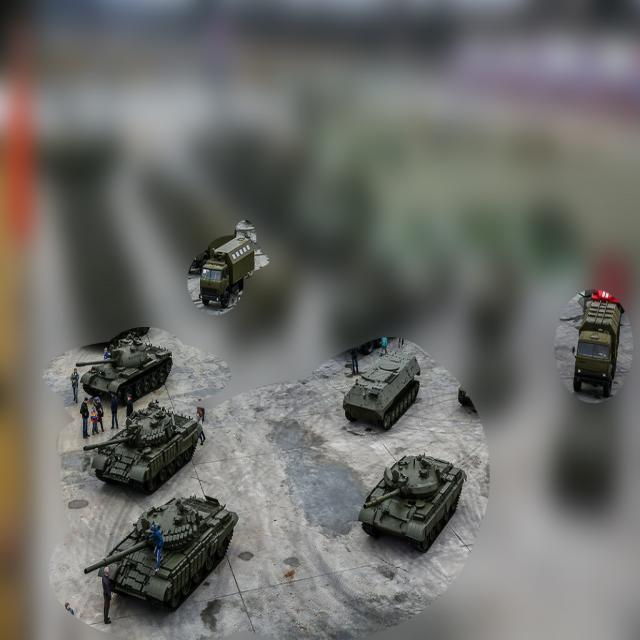Tanks: (357, 452, 467, 554), (342, 354, 424, 434)
